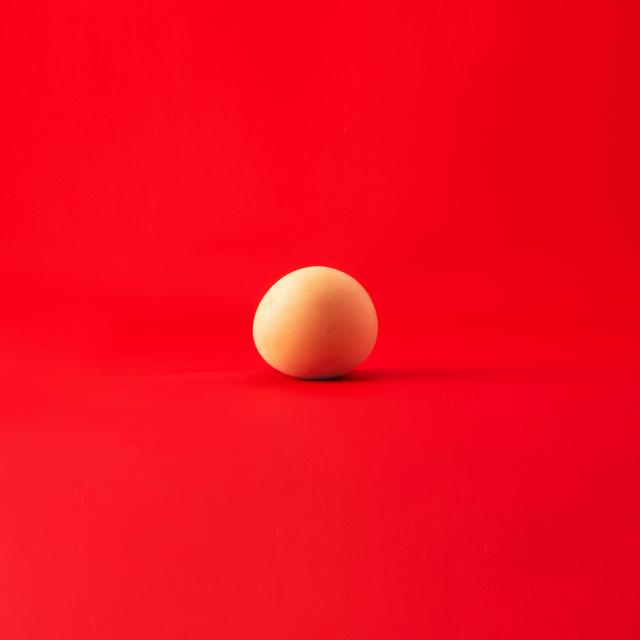egg: (242, 260, 395, 387)
